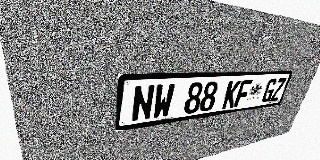8: (183, 82, 205, 115), (198, 81, 220, 112)
F: (233, 79, 253, 107)
G: (260, 78, 278, 103)
K: (221, 80, 241, 109)
N: (131, 84, 155, 122)
W: (152, 83, 175, 119)
Z: (269, 78, 287, 102)
